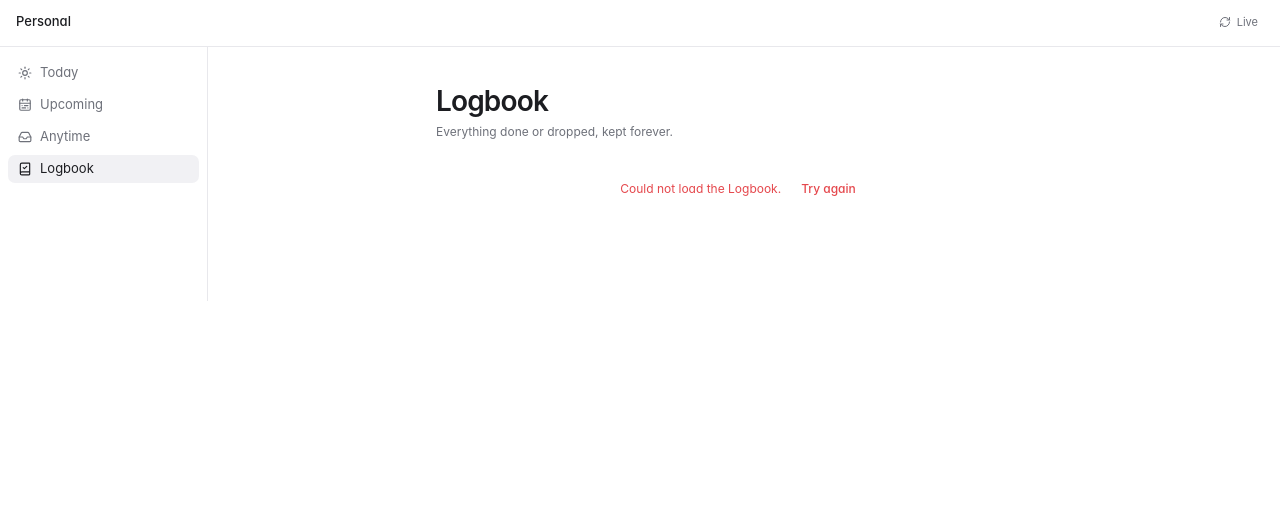
Test: Logbook › says when a page could not be read, and tries again
Expected: the message shows "Could not load the Logbook.", x1=620 y1=181 x2=781 y2=196
Click the button "Try again": point(828, 189) x1=789 y1=175 x2=868 y2=203
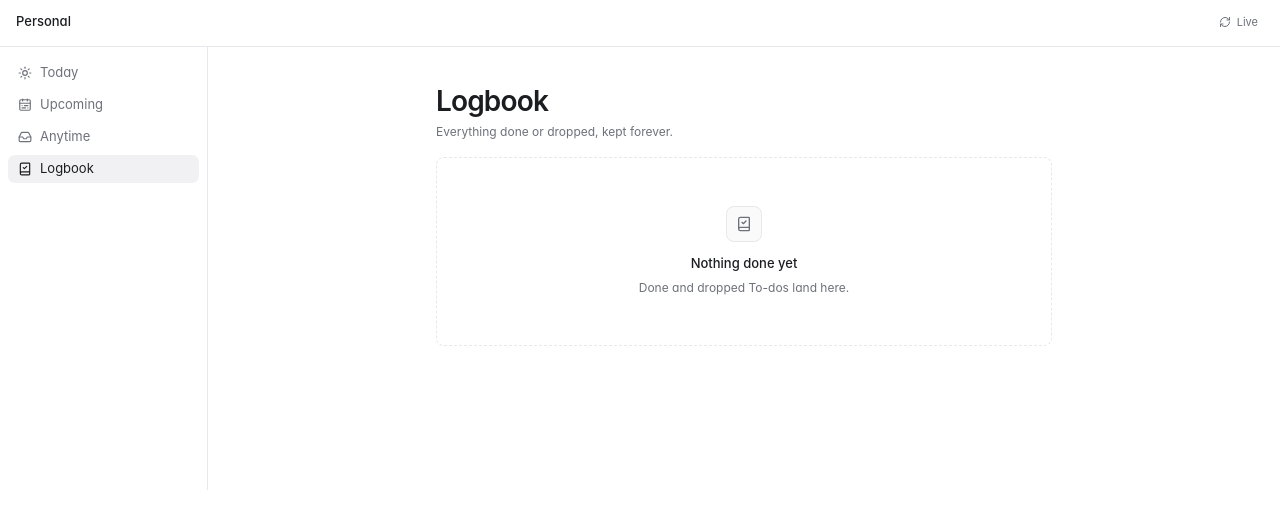
Expected: the heading "Nothing done yet" is shown, x1=691 y1=255 x2=797 y2=271
